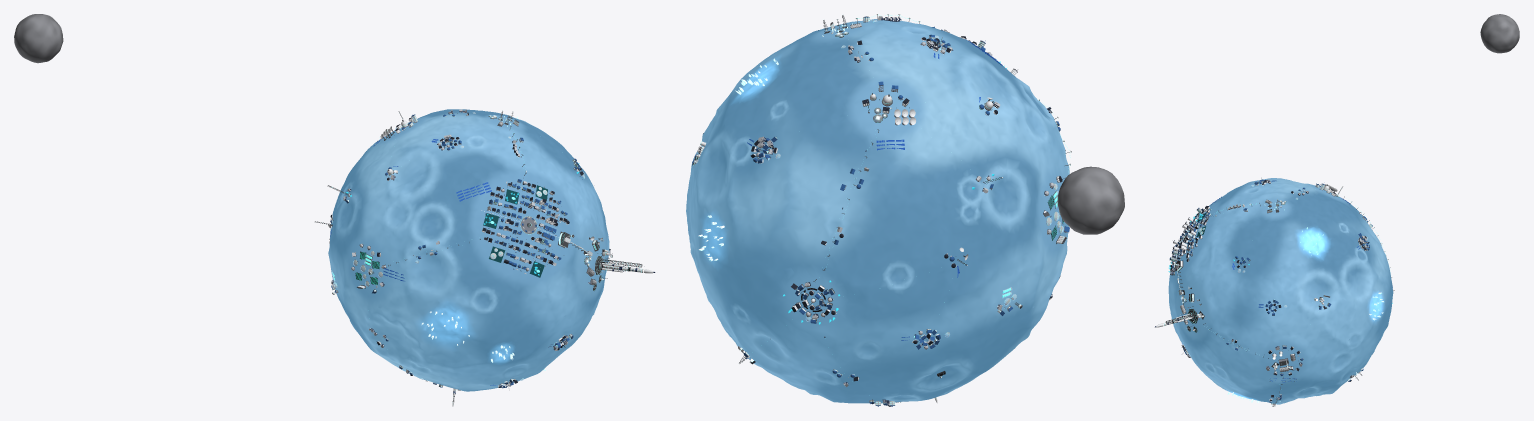
File: planet.glb
3 renders of one model, left to right at view 1: azimuth 30°, elevation 25°; view 2: azimuth 150°, elevation 25°; view 3: azimuth 270°, elevation 25°, orthographic. The views are drawn at different scales.
Parts seen in each view (by area): view 1: Planet_Surface, Moon_Kepra, Town_Park_Ground; view 2: Planet_Surface, Moon_Kepra; view 3: Planet_Surface, Moon_Kepra.
Boxes of the visible parts, left/top/right/bottom form: Planet_Surface: left=328, top=109, right=609, bottom=391; Moon_Kepra: left=14, top=14, right=63, bottom=63; Town_Park_Ground: left=483, top=185, right=547, bottom=277; Planet_Surface: left=686, top=19, right=1069, bottom=403; Moon_Kepra: left=1057, top=166, right=1124, bottom=234; Planet_Surface: left=1168, top=178, right=1393, bottom=404; Moon_Kepra: left=1480, top=14, right=1519, bottom=53.
Size of what is drawn, in the model's own units: 16.63 by 12.37 by 14.99.
